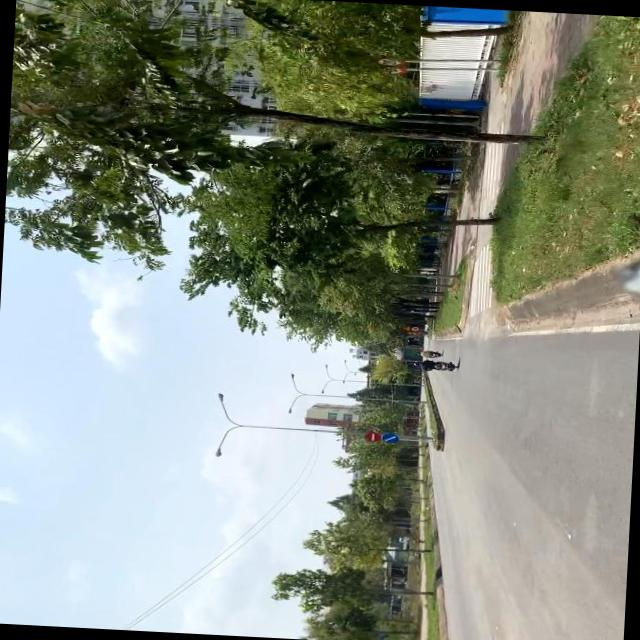P-102: (364, 431, 381, 442)
R-302a: (382, 434, 399, 444)
